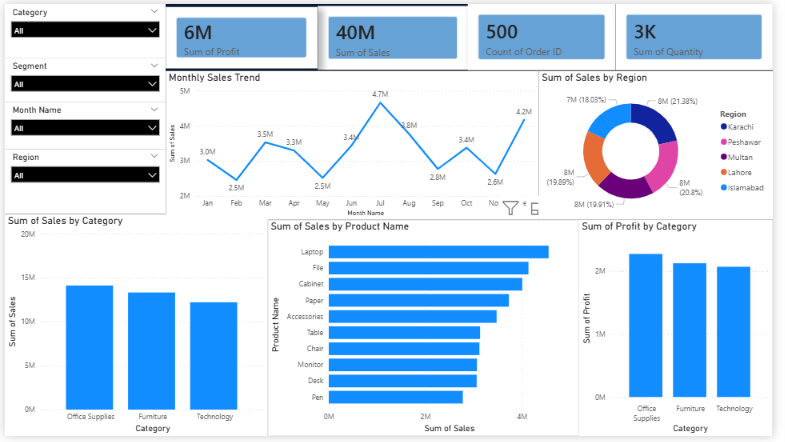

The page's visual inventory and layout, read from the dashboard file:
{"tool":"powerbi","page":{"name":"Page 1","canvas":[1280,720],"ordinal":0},"visuals":[{"type":"cardVisual","fields":{"Data":["Sum(Sales Data.Sales)"]},"box":[521.7,3.3,250,106.7],"z":0},{"type":"cardVisual","fields":{"Data":["Sum(Sales Data.Profit)"]},"box":[267.6,5.4,252.8,102.2],"z":1000},{"type":"cardVisual","fields":{"Data":["CountNonNull(Sales Data.Order ID)"]},"box":[771.7,0,246.7,110],"z":2000},{"type":"cardVisual","fields":{"Data":["Sum(Sales Data.Quantity)"]},"box":[1018.3,0,261.7,110],"z":3000},{"type":"lineChart","title":"Monthly Sales Trend","fields":{"Y":["Sum(Sales Data.Sales)"],"Category":["Sales Data.Month Name"]},"box":[268.3,111.7,621.7,248.3],"z":4000},{"type":"clusteredColumnChart","fields":{"Y":["Sum(Sales Data.Sales)"],"Category":["Sales Data.Category"]},"box":[0,350,438.3,370],"z":5000},{"type":"barChart","fields":{"Category":["Sales Data.Product Name"],"Y":["Sum(Sales Data.Sales)"]},"box":[438.3,360,518.3,360],"z":6000},{"type":"donutChart","fields":{"Category":["Sales Data.Region"],"Y":["Sum(Sales Data.Sales)"]},"box":[890,111.7,390,248.3],"z":7000},{"type":"clusteredColumnChart","fields":{"Category":["Sales Data.Category"],"Y":["Sum(Sales Data.Profit)"]},"box":[956.7,360,323.3,360],"z":8000},{"type":"slicer","fields":{"Values":["Sales Data.Category"]},"box":[0,0,268.3,90],"z":9000},{"type":"slicer","fields":{"Values":["Sales Data.Segment"]},"box":[0,90,268.3,73.3],"z":10000},{"type":"slicer","fields":{"Values":["Sales Data.Region"]},"box":[0,241.7,268.3,108.3],"z":11000},{"type":"slicer","fields":{"Values":["Sales Data.Month Name"]},"box":[0,163.3,268.3,78.3],"z":11001}]}

Visuals, with their boxes in screenshot pixels (x1, y1, x2, y2), scaled from the page's 1280x720 canvas onto the 785x442 screenshot:
cardVisual - Sum(Sales Data.Sales): region(320, 2, 473, 68)
cardVisual - Sum(Sales Data.Profit): region(164, 3, 319, 66)
cardVisual - CountNonNull(Sales Data.Order ID): region(473, 0, 625, 68)
cardVisual - Sum(Sales Data.Quantity): region(625, 0, 784, 68)
"Monthly Sales Trend" lineChart: region(165, 69, 546, 221)
clusteredColumnChart - Sum(Sales Data.Sales) x Sales Data.Category: region(0, 215, 269, 441)
barChart - Sales Data.Product Name x Sum(Sales Data.Sales): region(269, 221, 587, 441)
donutChart - Sales Data.Region x Sum(Sales Data.Sales): region(546, 69, 784, 221)
clusteredColumnChart - Sales Data.Category x Sum(Sales Data.Profit): region(587, 221, 784, 441)
slicer - Sales Data.Category: region(0, 0, 165, 55)
slicer - Sales Data.Segment: region(0, 55, 165, 100)
slicer - Sales Data.Region: region(0, 148, 165, 215)
slicer - Sales Data.Month Name: region(0, 100, 165, 148)
